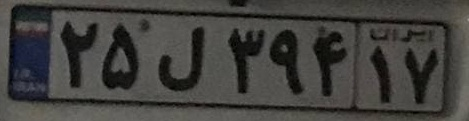character: (151, 19, 209, 95), (55, 16, 101, 93), (222, 20, 267, 98), (306, 24, 351, 102), (100, 16, 143, 96), (265, 22, 307, 101), (401, 45, 441, 108), (365, 43, 398, 107)
